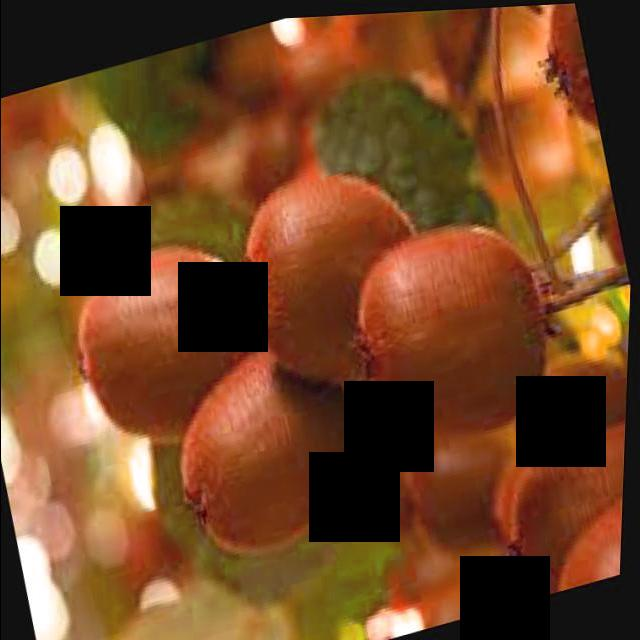kiwi: (325, 193, 583, 477), (215, 140, 464, 422), (152, 323, 395, 575), (58, 217, 293, 472), (482, 418, 629, 604), (387, 412, 547, 576), (424, 4, 578, 111), (526, 343, 631, 476), (543, 476, 627, 590)
